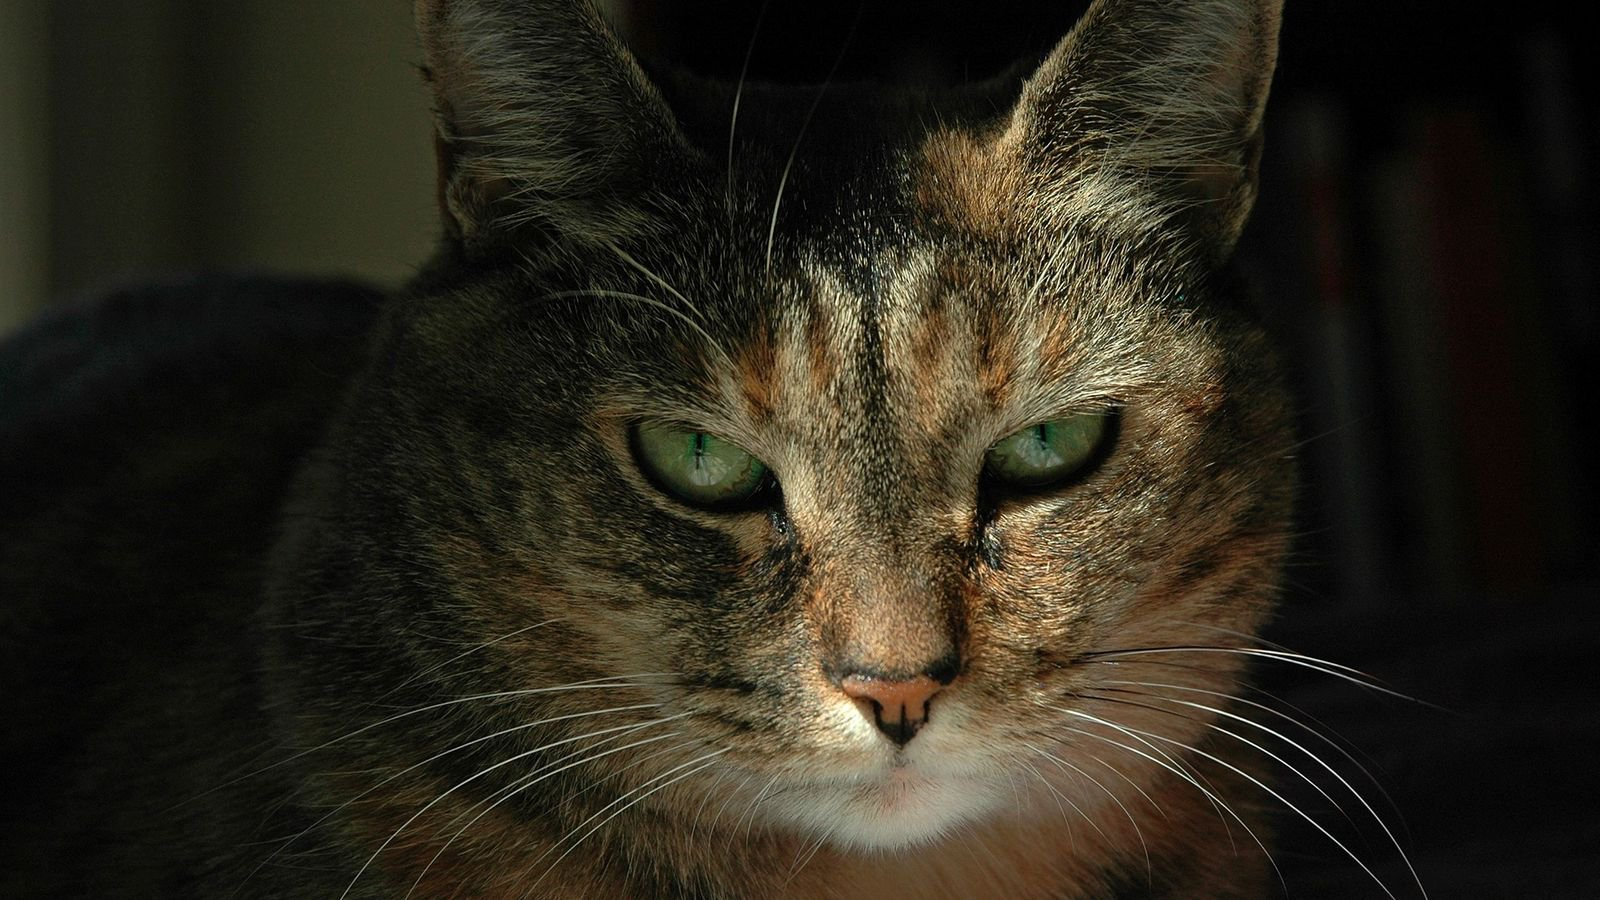cat: (367, 8, 1316, 873)
